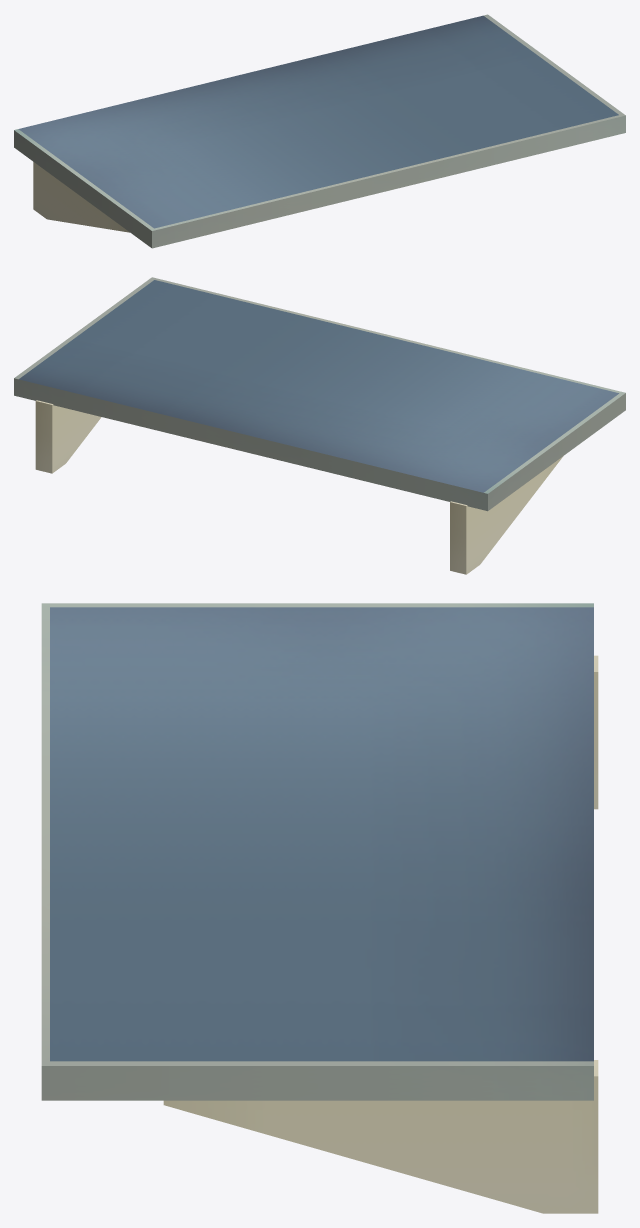
The model's file is kitcentop03bc.fbx.
The picture shows the model from 3 angles, top to bottom: view 1: azimuth 30°, elevation 25°; view 2: azimuth 150°, elevation 25°; view 3: azimuth 270°, elevation 25°; orthographic projection. The views are drawn at different scales.
Visible parts, largest first — view 1: kitcentop03bc; view 2: kitcentop03bc; view 3: kitcentop03bc.
Part boxes in pixels (box(x1,y1,x2,y2)): kitcentop03bc: box(14, 14, 625, 248); kitcentop03bc: box(14, 277, 625, 574); kitcentop03bc: box(41, 603, 598, 1213).
Size of the model in its own units: 0.9303 by 0.1595 by 0.4732.
